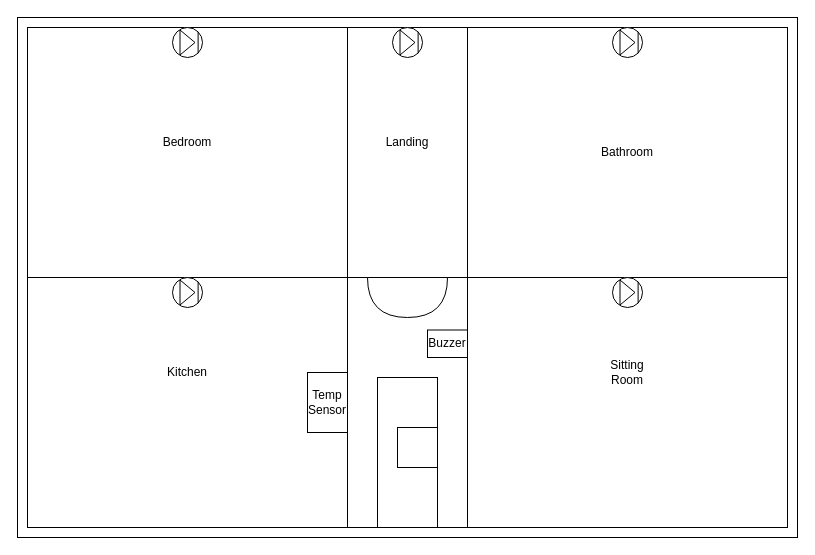
Image size: 815x555. Some labels were removed from this diagram. The shapes that lost their labels are listed below. From the top down, each one's box as (x1, y1, x2, y2) in pixels, then its label:
(366, 276, 448, 318): PIR
(396, 426, 438, 468): Servo
